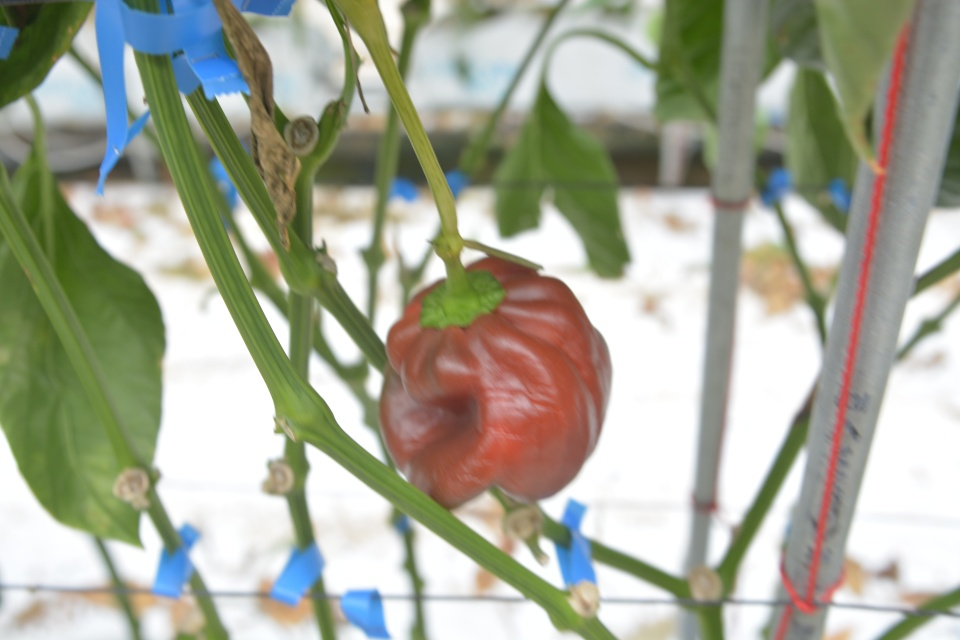fruit: (375, 250, 620, 514)
pedicle: (415, 269, 506, 327)
